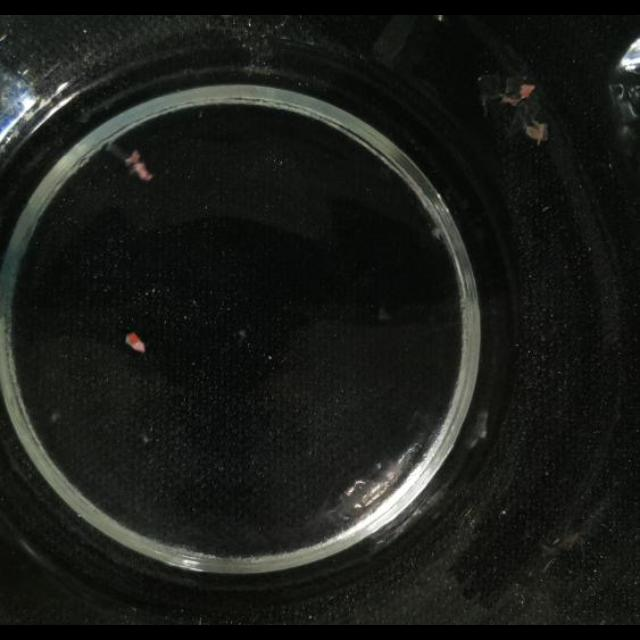Fragment: (478, 72, 554, 142), (120, 143, 160, 181), (118, 332, 152, 358)
microbeads: (266, 354, 272, 362)
